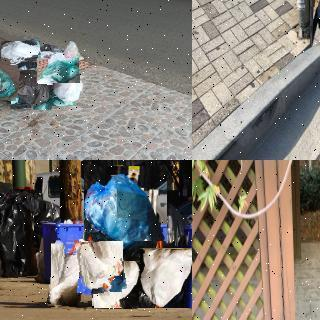Garbage: (84, 166, 167, 241), (139, 247, 192, 308), (49, 239, 94, 310), (0, 192, 36, 279), (77, 237, 125, 294), (93, 260, 141, 309), (11, 70, 53, 110), (52, 74, 85, 106), (37, 58, 79, 83), (0, 40, 41, 63), (0, 63, 19, 99)
